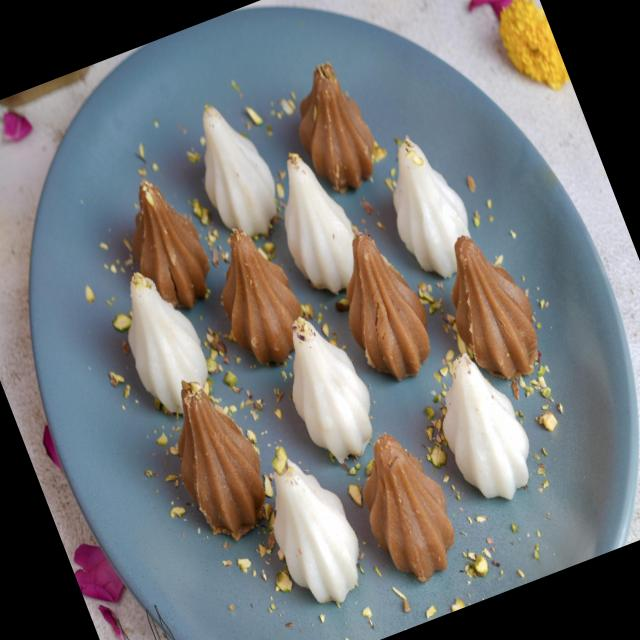modak: (407, 329, 562, 536), (240, 436, 382, 624), (252, 296, 390, 482), (146, 357, 286, 540), (335, 418, 474, 600), (318, 220, 448, 400), (365, 120, 496, 296), (428, 229, 558, 402), (93, 247, 220, 416), (278, 55, 395, 207), (103, 170, 221, 319), (175, 100, 292, 250), (202, 218, 318, 366), (251, 141, 362, 295)
